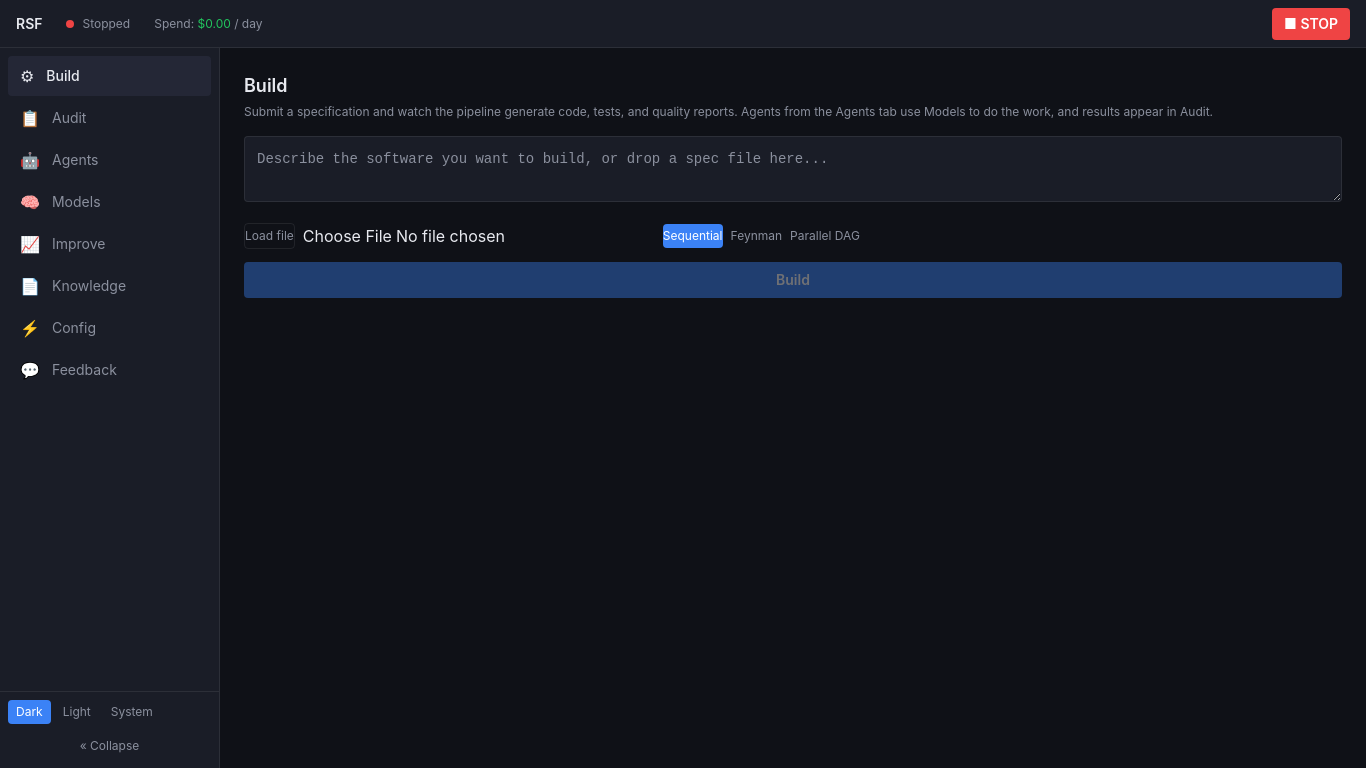
Test: App Shell › switching route shows placeholder for that section
Step 1. Click the text "Audit" → (69, 118), box [52, 108, 86, 128]
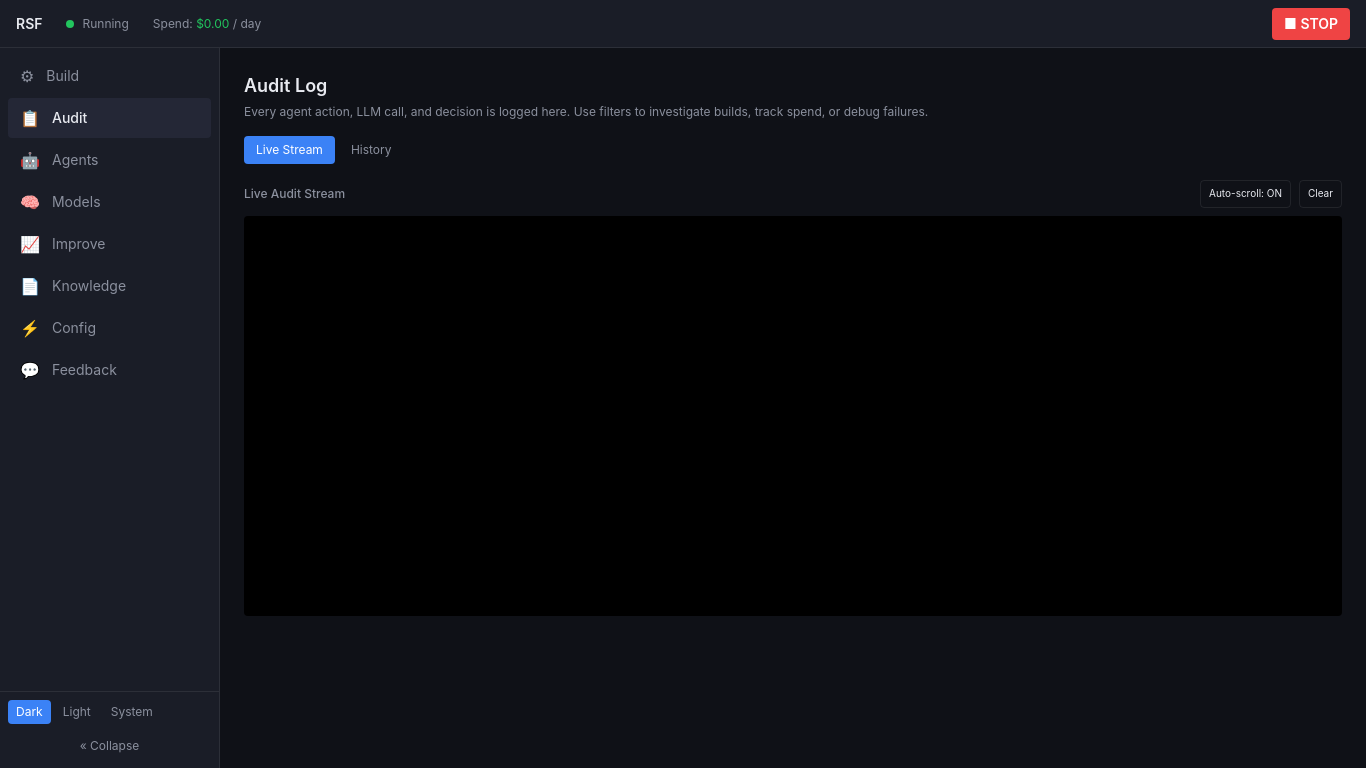
Expected: the element with test id "page-audit" is shown, [244, 72, 1342, 616]
